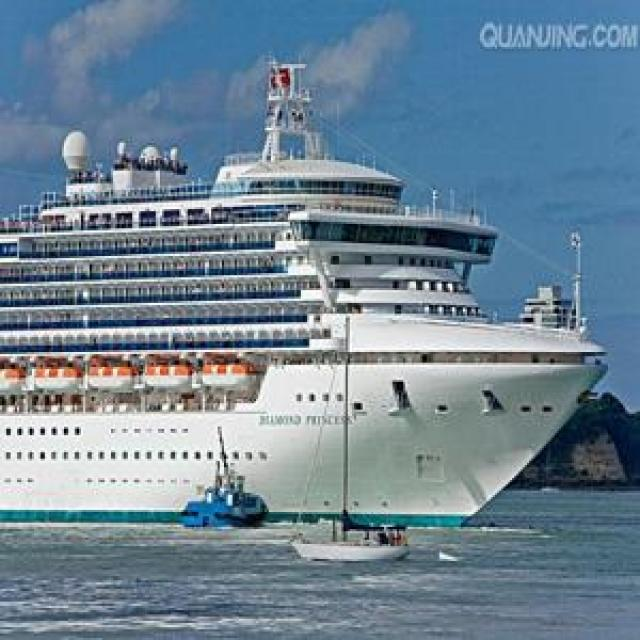passenger ship: (0, 98, 601, 523)
sailboat: (300, 309, 414, 566), (174, 424, 270, 530)
